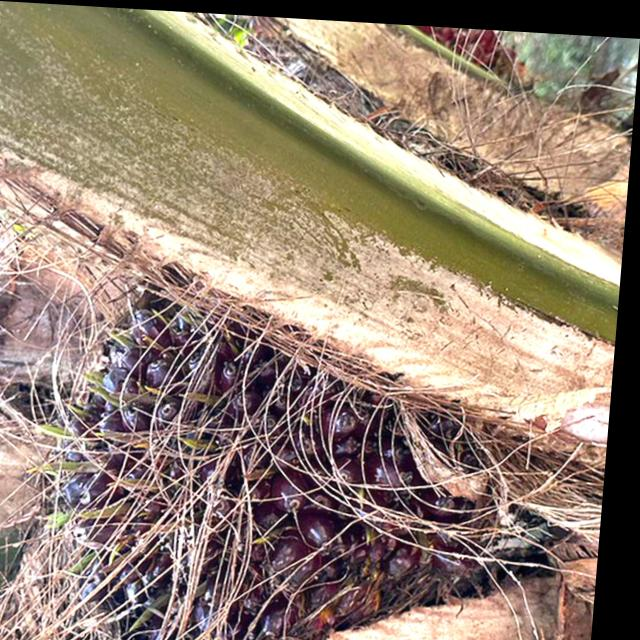almost: (39, 249, 589, 640)
